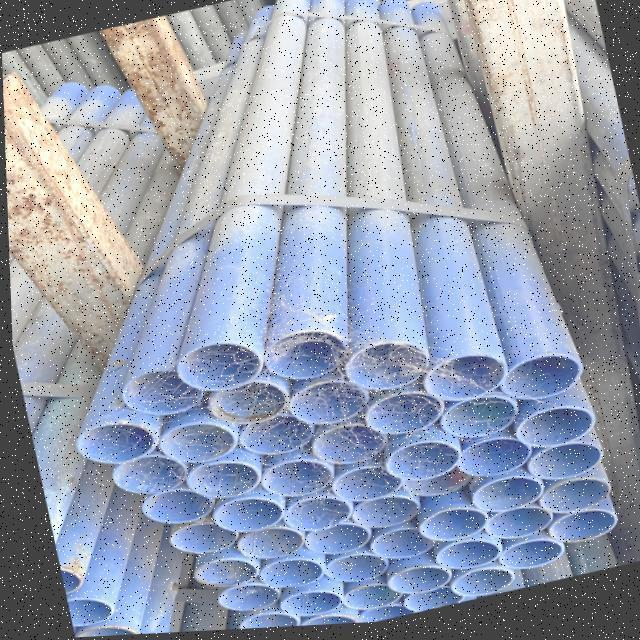pipe: (258, 330, 344, 383), (282, 373, 363, 428), (115, 367, 200, 418), (170, 341, 255, 391), (343, 346, 427, 395), (508, 410, 591, 457), (229, 416, 319, 459), (201, 380, 283, 427), (417, 357, 495, 406), (498, 360, 581, 406), (516, 444, 599, 489), (300, 424, 382, 469), (151, 416, 231, 462), (105, 453, 186, 498), (362, 391, 439, 438), (73, 419, 152, 463), (378, 440, 455, 485), (163, 517, 247, 557), (200, 489, 275, 533), (137, 491, 226, 528), (449, 440, 527, 482), (435, 397, 511, 440), (255, 459, 327, 503), (463, 480, 542, 520), (175, 459, 254, 499), (222, 524, 296, 565), (469, 510, 553, 545), (354, 529, 438, 563), (273, 496, 344, 536), (323, 469, 397, 507), (343, 496, 414, 533), (290, 525, 367, 559), (410, 510, 479, 547), (546, 514, 614, 551), (213, 583, 284, 617), (188, 557, 256, 592), (317, 553, 383, 588), (392, 469, 466, 500), (377, 568, 451, 599), (248, 558, 314, 591), (492, 542, 556, 575), (541, 486, 606, 517), (427, 542, 490, 572), (267, 590, 333, 618), (445, 571, 508, 600), (333, 585, 396, 614), (285, 605, 357, 629), (396, 588, 456, 615), (346, 603, 409, 626), (232, 614, 294, 632), (66, 602, 109, 626), (70, 626, 131, 638)
